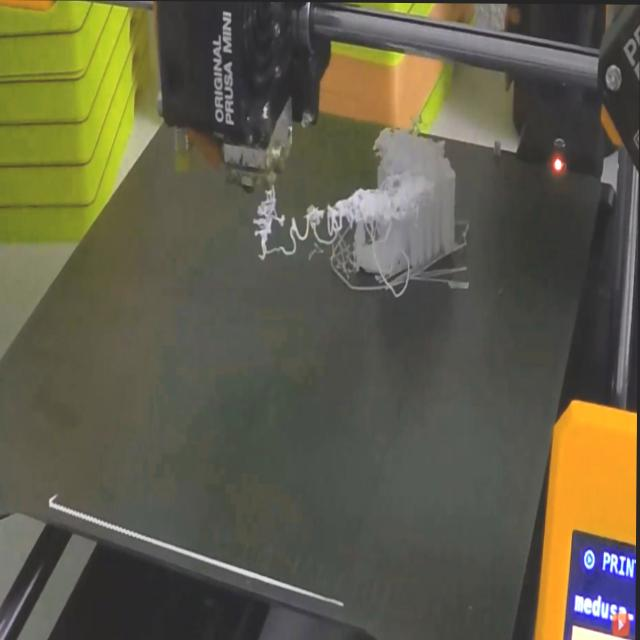spaghetti: (235, 163, 454, 267)
